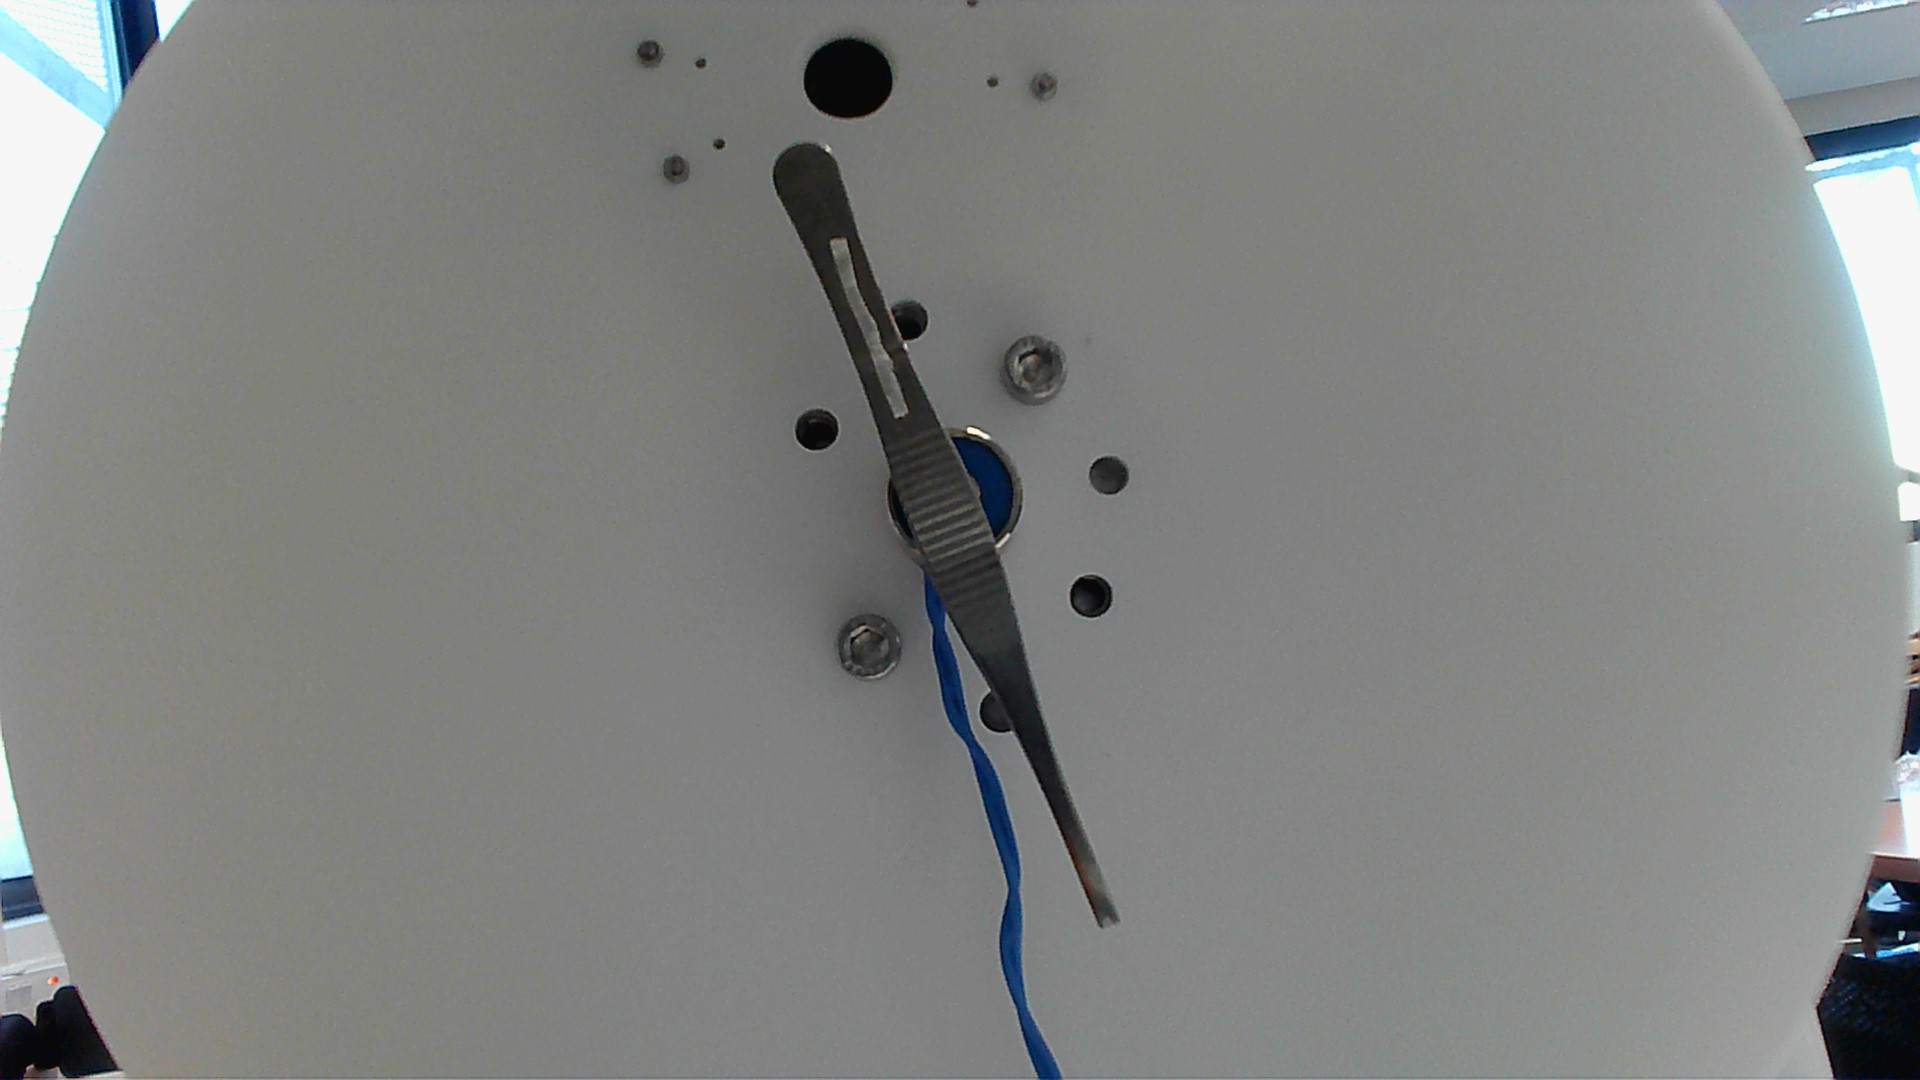Scratches: (825, 230, 913, 427)
